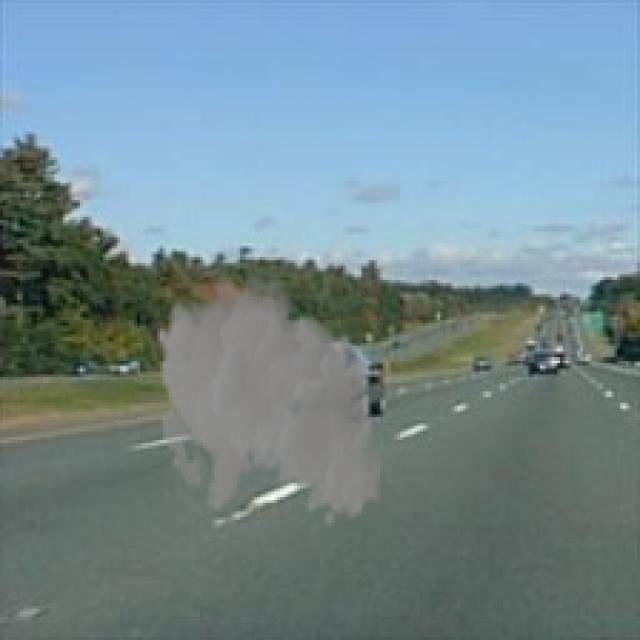Smoke: (154, 262, 383, 528)
